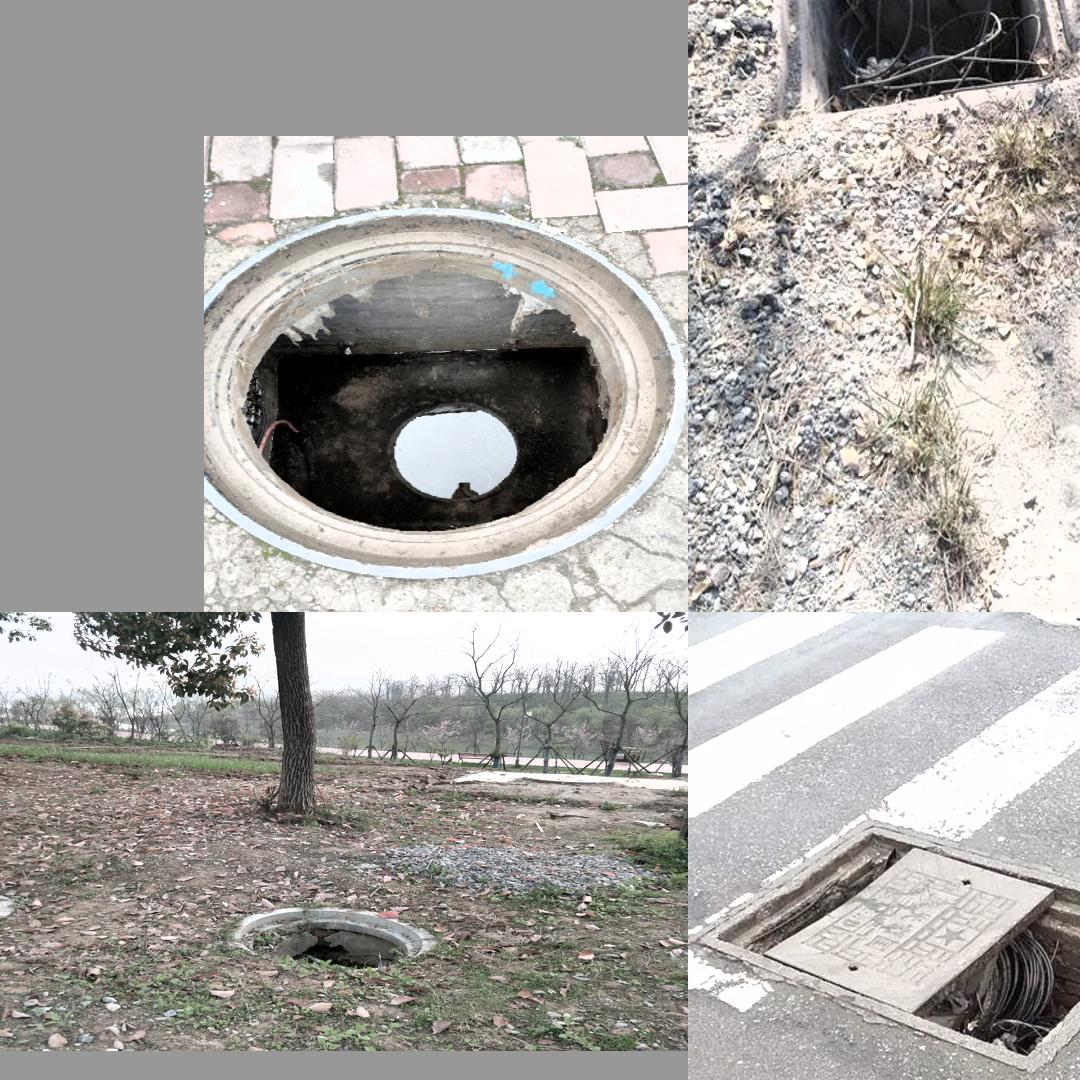lose: (207, 206, 685, 579), (693, 800, 1080, 1080), (747, 0, 1080, 157), (230, 905, 434, 971)
